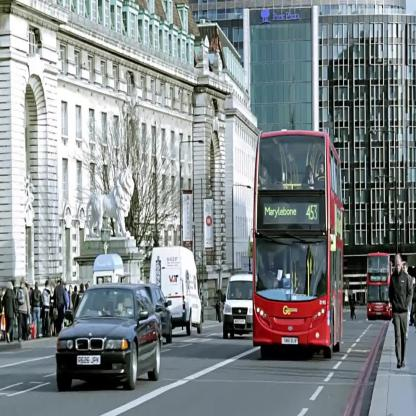bus: (252, 130, 344, 359), (367, 252, 392, 318)
car: (57, 284, 161, 392), (222, 274, 253, 339), (144, 284, 173, 344)
truck: (148, 248, 202, 335)
